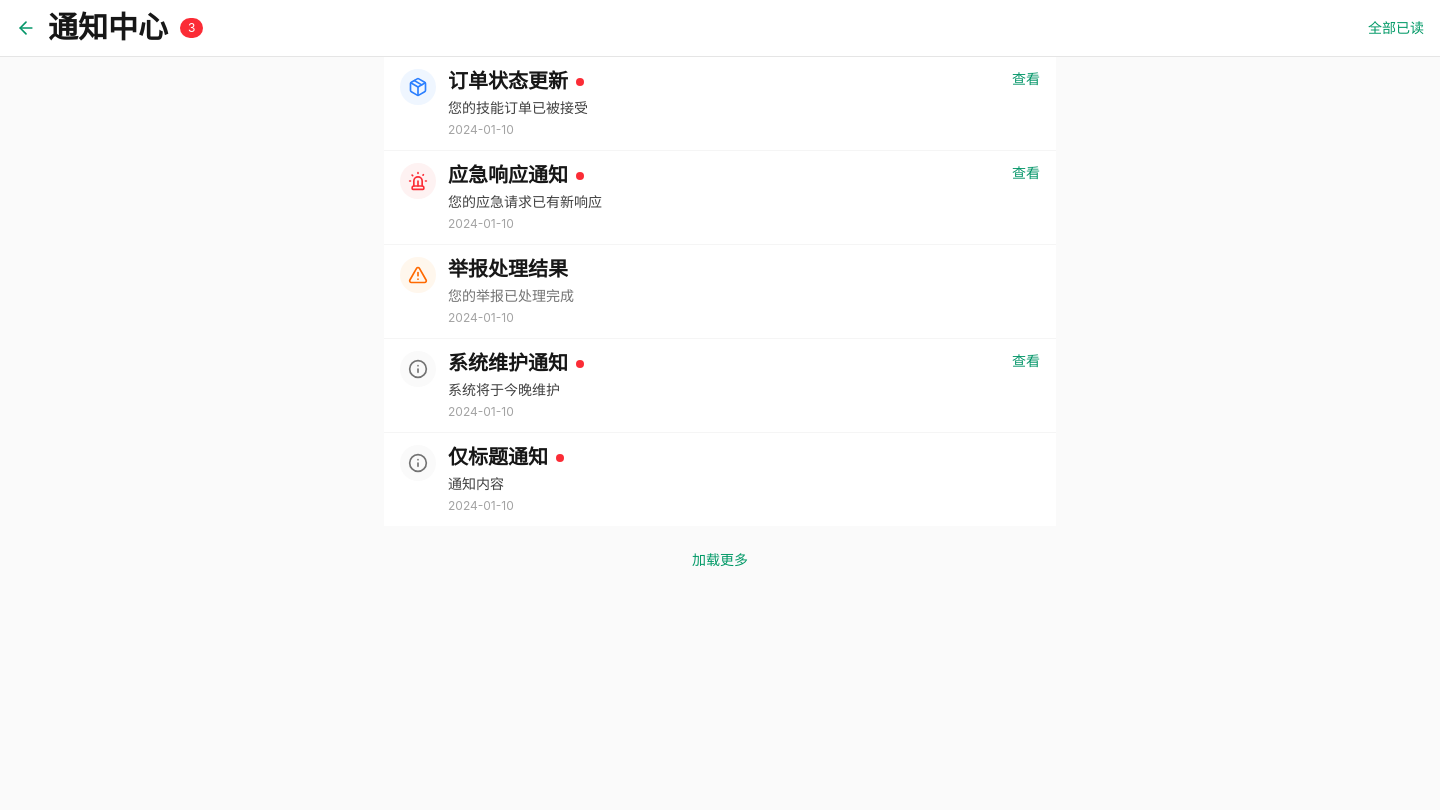
Test: Notifications 通知中心 › hasMore=true 时显示"加载更多"按钮，点击触发分页加载
Expected: the heading "订单状态更新" is shown, 448,69 -> 568,94
点击"加载更多"
Click the button "加载更多".
click(720, 560)  # box 676,542 -> 764,578
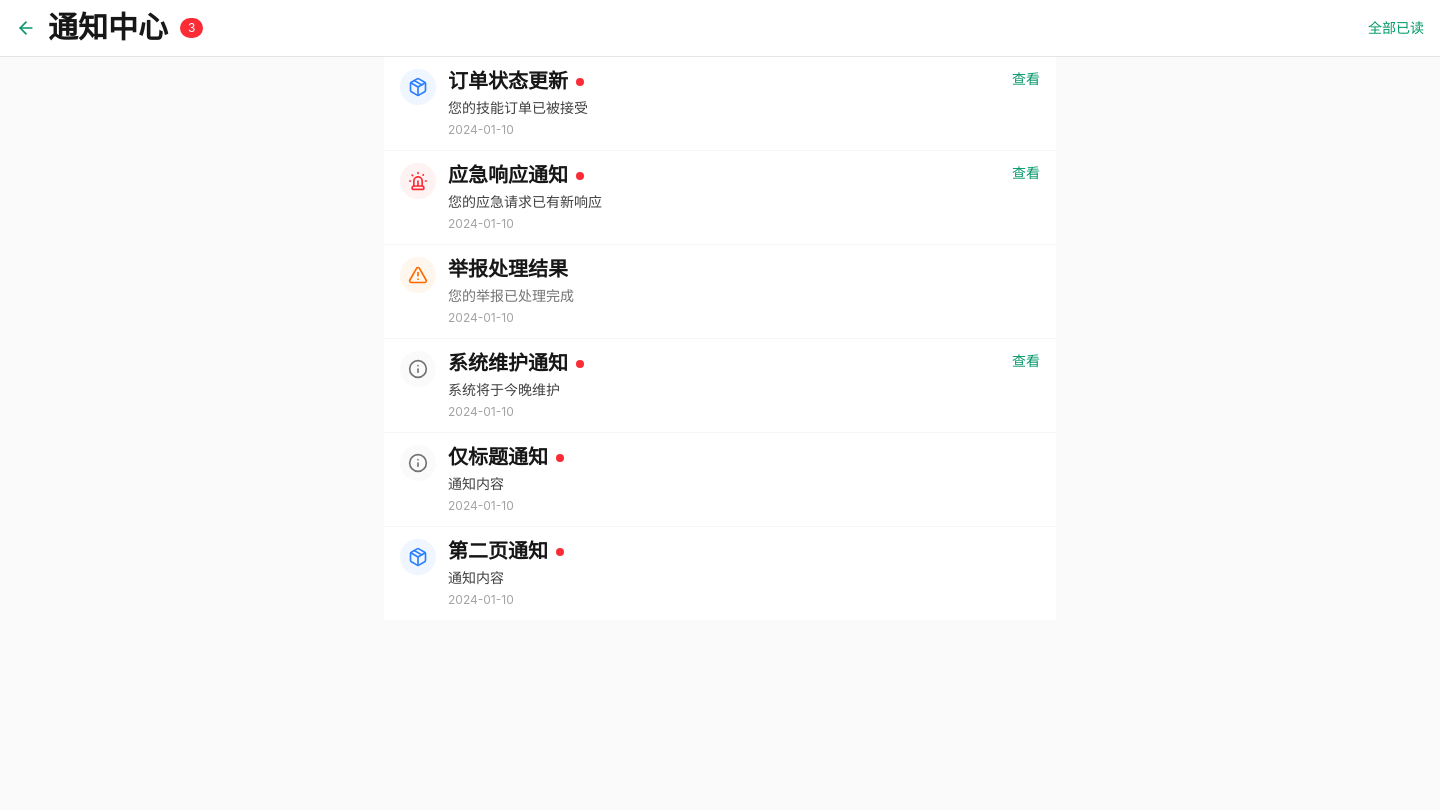
Result: the heading "第二页通知" is shown at 448,539 -> 548,564
